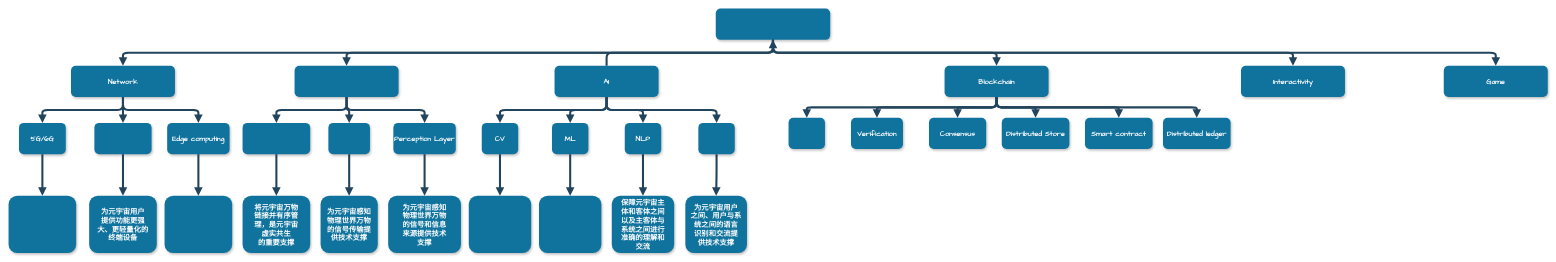
Some shapes in this 1556 by 262 pixel diagram are drawn without their labels. Each missing label, with the centre of its shape:
"Application Layer" belongs at (x=276, y=139).
"ASR" belongs at (x=717, y=139).
"Cloud computing" belongs at (x=123, y=139).
"Hash" belongs at (x=807, y=133).
"IOT" belongs at (x=346, y=81).
"Metaverse" belongs at (x=773, y=24).
"Net Layer" belongs at (x=349, y=139).
"为元宇宙所有 系统和角色提 供技术支撑，大 幅提高元宇宙 的运行效率和 智慧化程度" belongs at (x=570, y=224).
"为元宇宙提供 高速、低延迟 、更实时、流畅 的体验" belongs at (x=42, y=224).
"现实世界图像 数字化关键技 术，为元宇宙提 供虚实结合的观感" belongs at (x=500, y=224).
"解决成本和网 络阻塞的问题， 为元宇宙用户 提供低延时、 更流畅的体验" belongs at (x=198, y=224).
